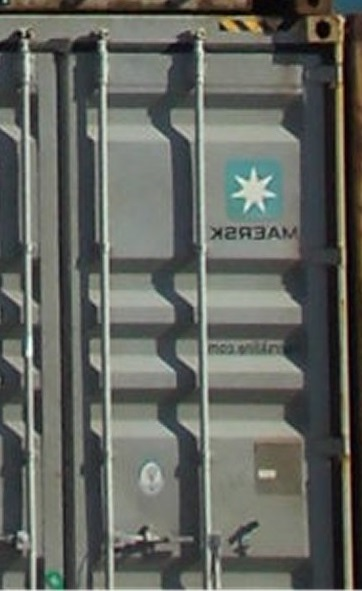container_door: (4, 14, 352, 584)
